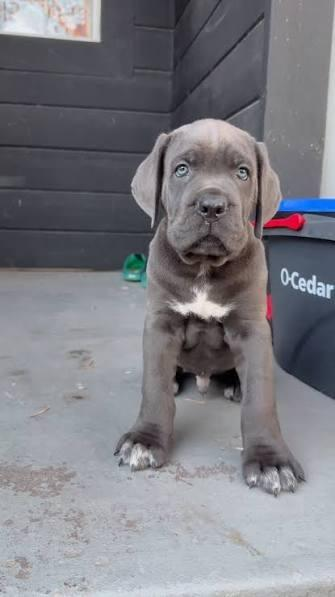puppy-dog: (115, 116, 306, 497)
